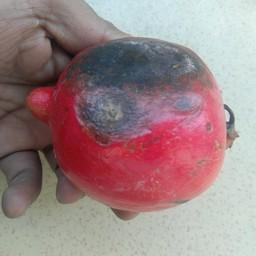Bad_pomegranate: (34, 47, 237, 206)
